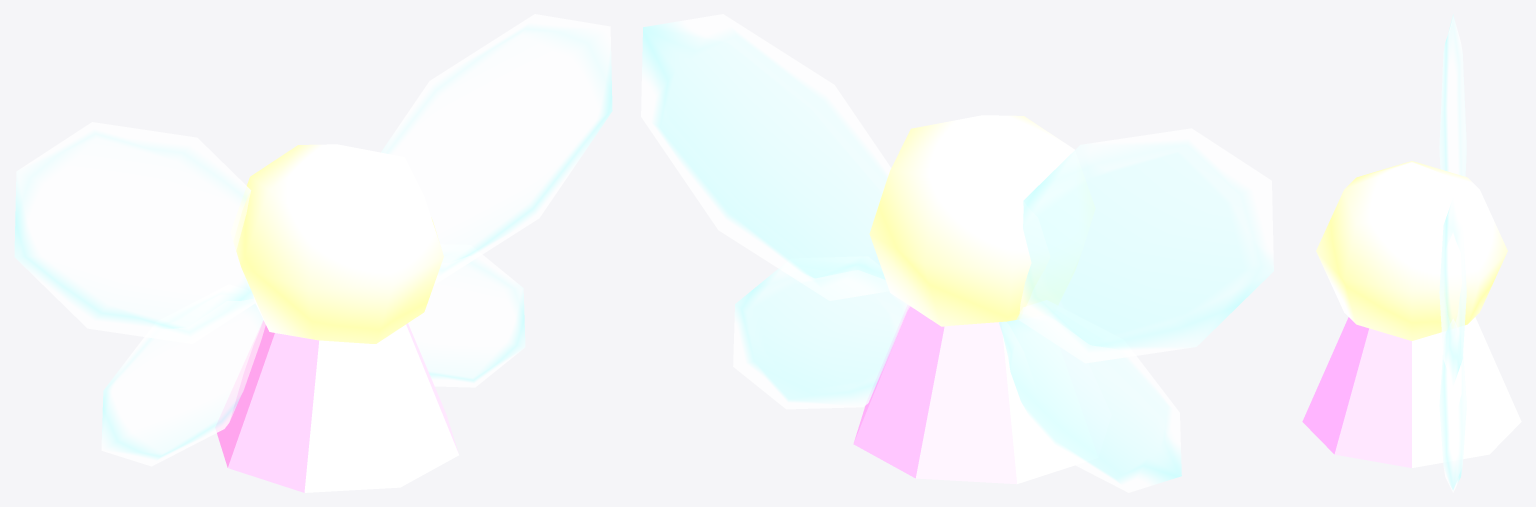
The model's file is fairy.glb.
3 views of the same model, side by side, from view 1: azimuth 30°, elevation 25°; view 2: azimuth 150°, elevation 25°; view 3: azimuth 270°, elevation 25° (orthographic). The views are drawn at different scales.
Visible parts, largest first — view 1: Fairy_Body, Fairy_WingR, Fairy_WingL; view 2: Fairy_Body, Fairy_WingR, Fairy_WingL; view 3: Fairy_Body, Fairy_WingL, Fairy_WingR.
Part boxes in pixels (x1,y1,x2,y2): Fairy_Body: [215, 144, 458, 492]; Fairy_WingR: [14, 122, 265, 466]; Fairy_WingL: [381, 14, 612, 387]; Fairy_Body: [853, 115, 1110, 484]; Fairy_WingR: [999, 128, 1273, 492]; Fairy_WingL: [641, 14, 910, 409]; Fairy_Body: [1302, 161, 1521, 467]; Fairy_WingL: [1439, 198, 1466, 492]; Fairy_WingR: [1439, 14, 1466, 176].
Bounding box in the file's own units: 0.1748 × 0.1045 × 0.064.
